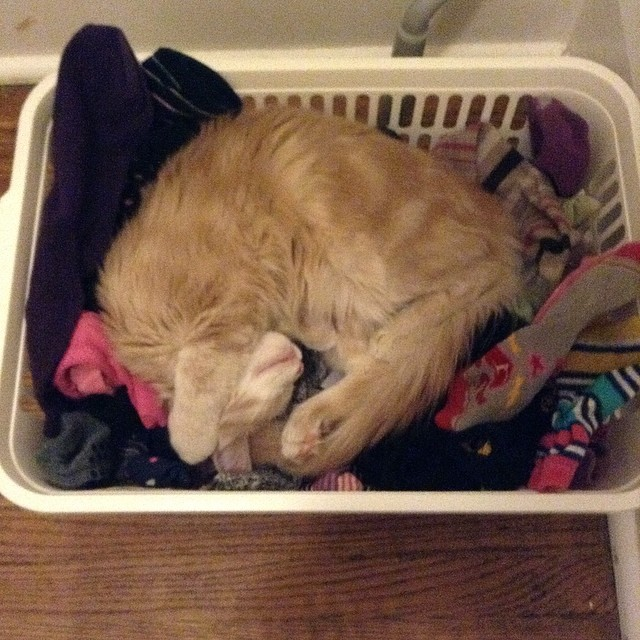cat: (95, 103, 530, 483)
